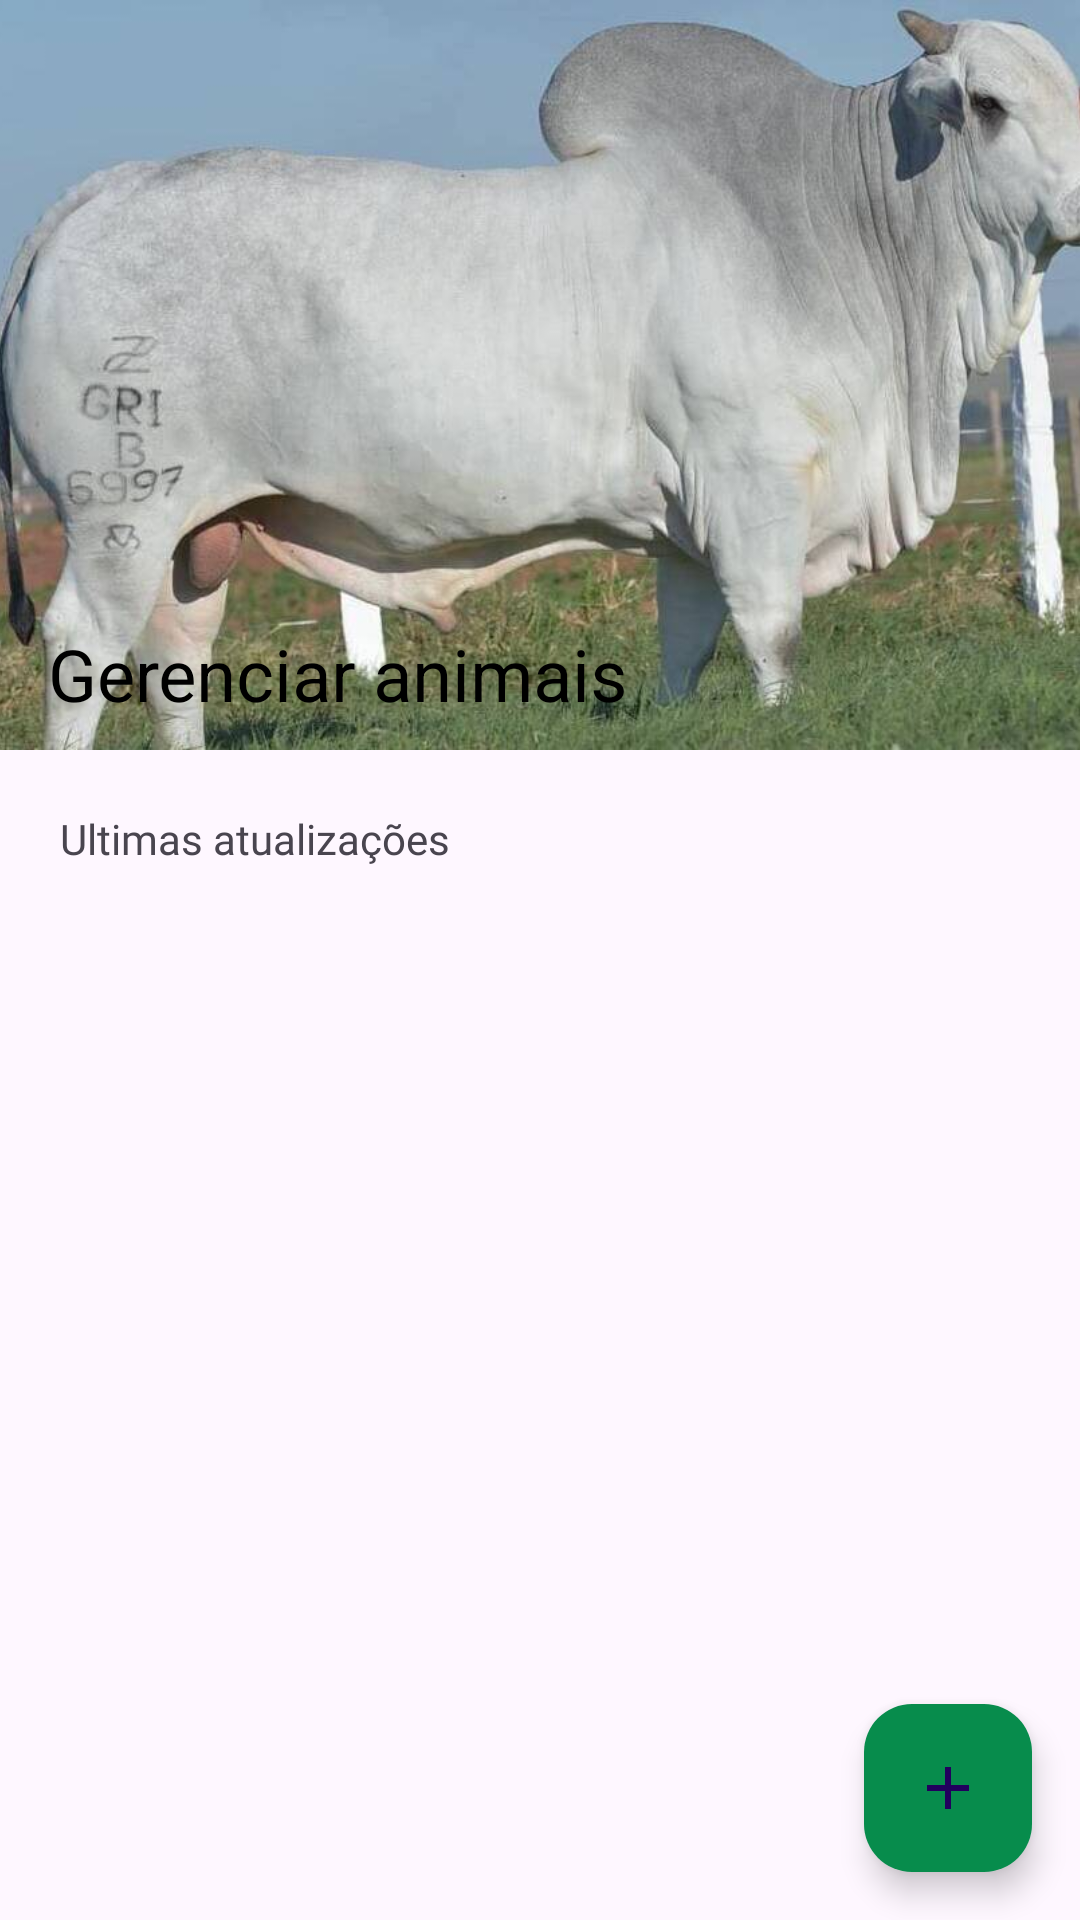

Locate icon controls on the screen. Image size 1080w x 1920h, boxes as (x1, y1, x2, y2).
add animal: (864, 1704, 1032, 1872)
